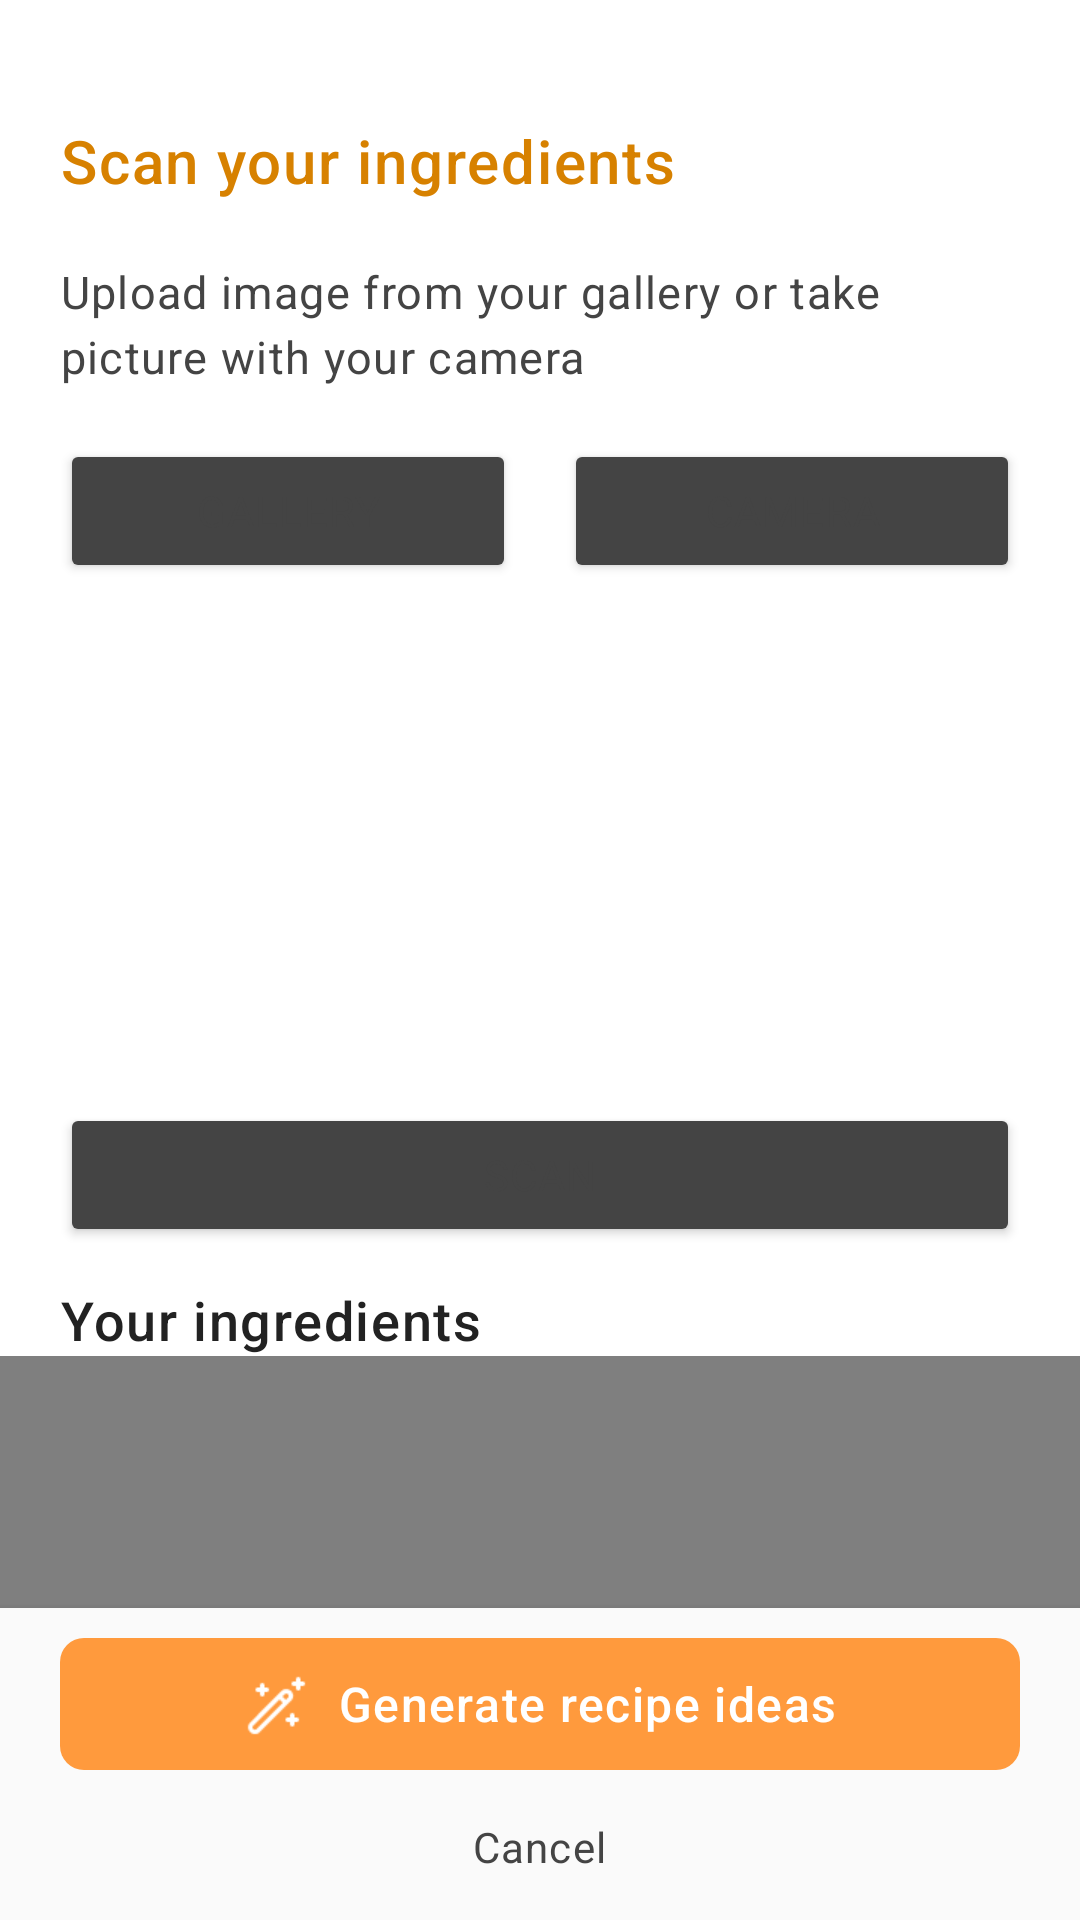

Point at icon controls on the screen. Image size 1080×1920, points as (x=x, y=y).
magic: (x=276, y=1705)
